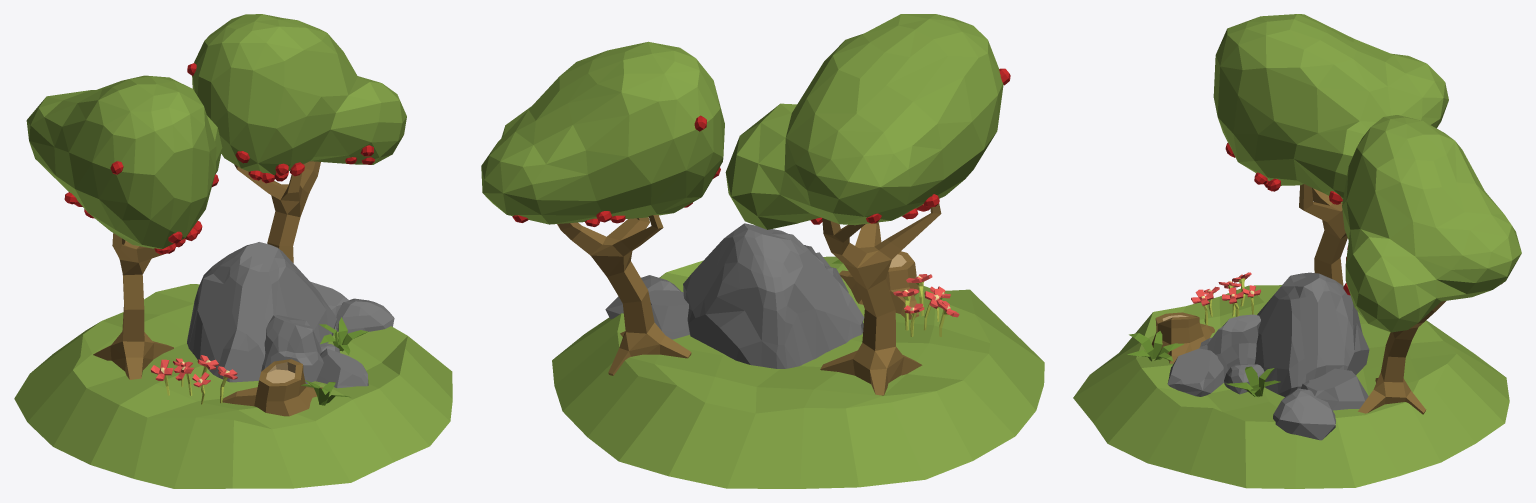
Rendered from nested fruittrees2.fbx.
3 views of the same model, side by side, from view 1: azimuth 30°, elevation 25°; view 2: azimuth 150°, elevation 25°; view 3: azimuth 270°, elevation 25° (orthographic). The views are drawn at different scales.
Visible parts, largest first — view 1: nested appletrees2_LOD0; view 2: nested appletrees2_LOD0; view 3: nested appletrees2_LOD0.
Boxes of the visible parts, <box> form: nested appletrees2_LOD0: <box>14,14,452,488</box>; nested appletrees2_LOD0: <box>481,14,1044,488</box>; nested appletrees2_LOD0: <box>1073,14,1521,488</box>.
Size of what is drawn, in the model's own units: 14.63 by 11.83 by 14.54.
